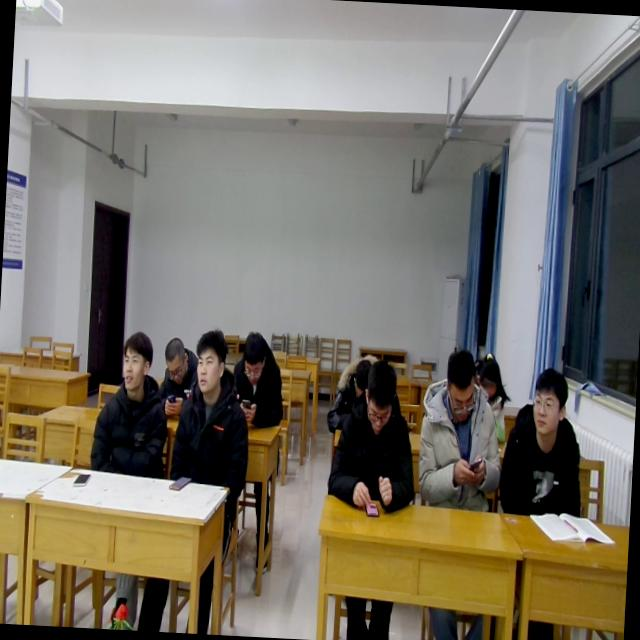bow: (230, 330, 290, 433), (324, 350, 382, 434), (467, 349, 512, 444), (154, 334, 199, 423)
down: (359, 354, 402, 441), (439, 344, 482, 426), (473, 342, 507, 403), (158, 332, 190, 385), (240, 329, 269, 386), (348, 351, 373, 400)
lookup: (526, 362, 571, 441), (190, 323, 232, 396), (118, 324, 155, 394)
sit: (416, 346, 508, 514), (326, 356, 421, 514), (168, 324, 257, 489), (499, 362, 589, 521), (86, 328, 176, 477)
